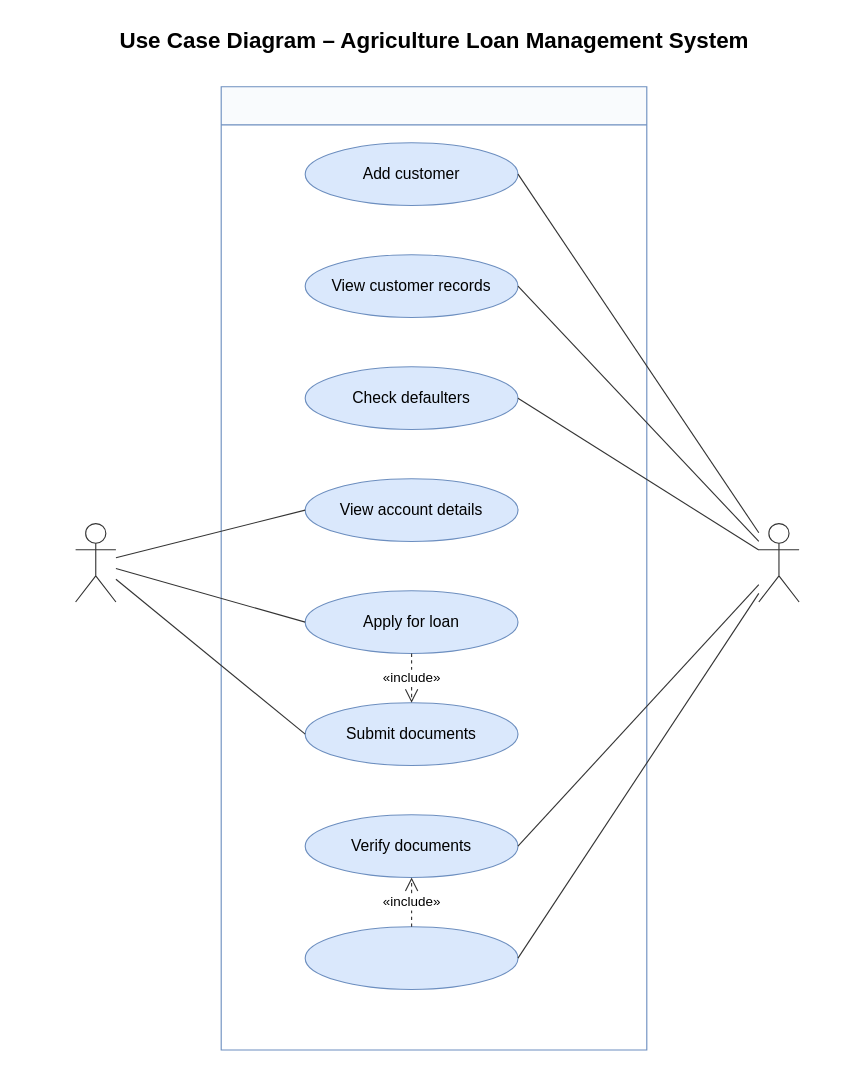
Some shapes in this 867 by 1070 pixel diagram are drawn without their labels. Here are the shapes that lost their labels. From the top down, the box of each, then its label:
(74, 522, 116, 602): Customer
(220, 86, 647, 1050): Agriculture Loan Management System
(758, 522, 799, 602): Admin
(304, 926, 518, 990): Approve loan
